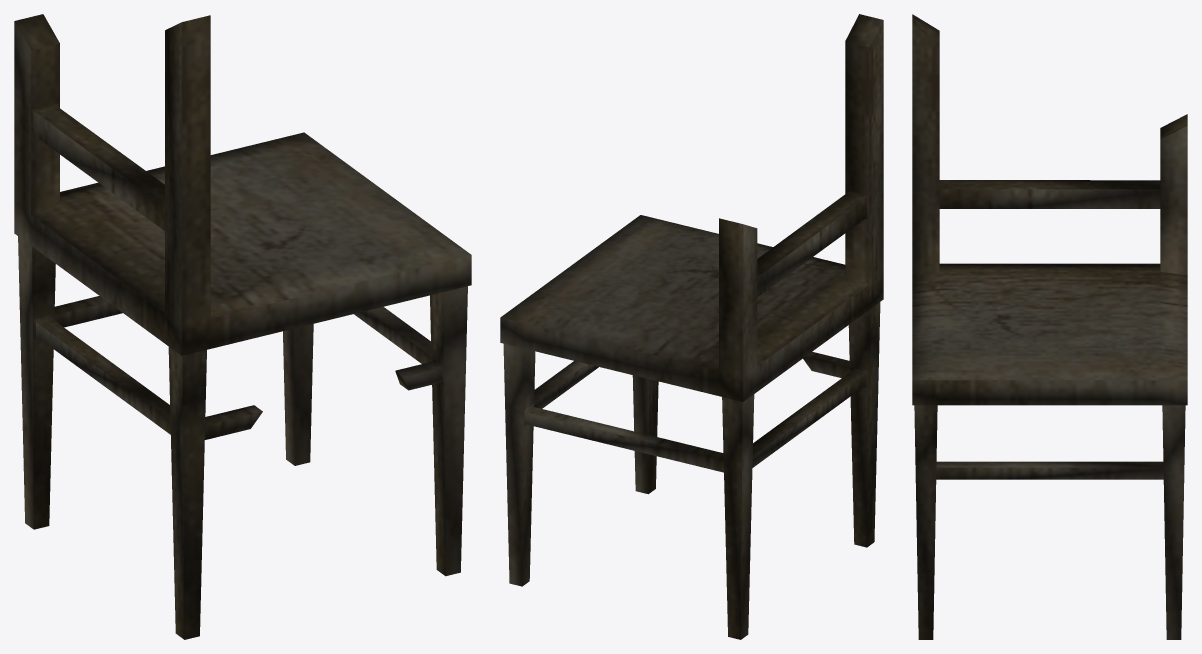
Rendered from chair.fbx.
3 views of the same model, side by side, from view 1: azimuth 30°, elevation 25°; view 2: azimuth 150°, elevation 25°; view 3: azimuth 270°, elevation 25° (orthographic). The views are drawn at different scales.
Parts seen in each view (by area): view 1: Chair; view 2: Chair; view 3: Chair.
Part boxes in pixels (x1,y1,x2,y2): Chair: (14, 14, 471, 639); Chair: (500, 14, 883, 639); Chair: (912, 14, 1187, 639).
Bounding box in the file's own units: 50 × 103 × 50.
